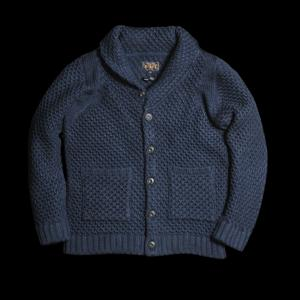C_cardigan sweater: (36, 33, 266, 257)
